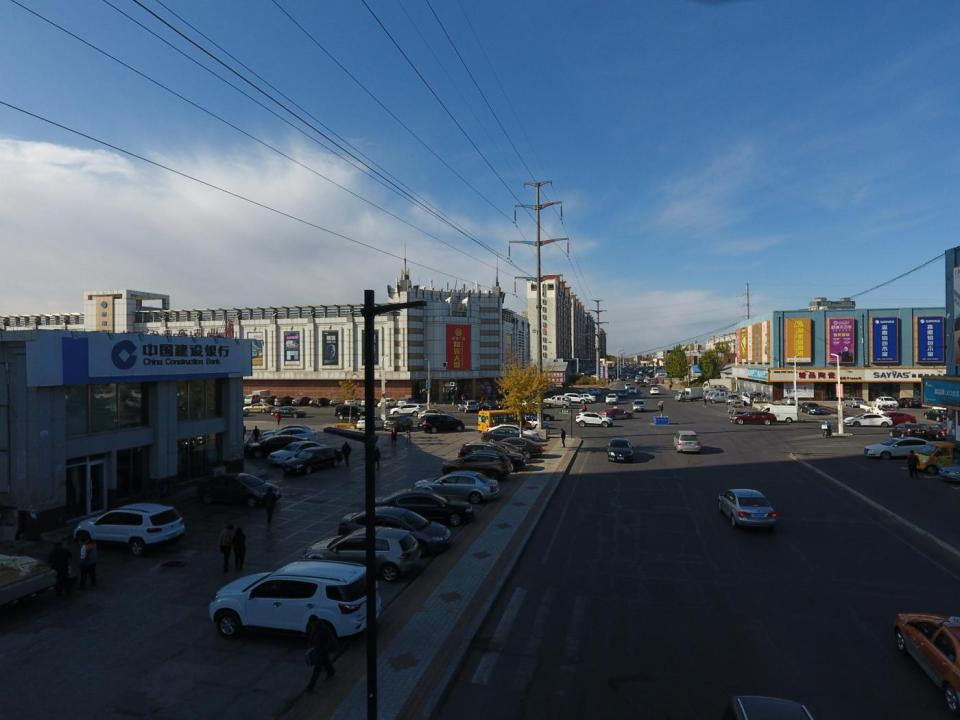bus: (478, 408, 531, 437)
car: (209, 558, 381, 643), (894, 612, 960, 716), (303, 528, 421, 581), (73, 503, 184, 555), (338, 507, 450, 553), (365, 488, 474, 534), (412, 470, 499, 505), (197, 473, 280, 506), (716, 488, 775, 528), (440, 451, 512, 482), (458, 442, 527, 472), (864, 437, 942, 461), (284, 446, 343, 477), (244, 436, 312, 460), (269, 442, 330, 463), (489, 438, 542, 460), (263, 429, 316, 449), (486, 424, 540, 442), (481, 428, 534, 446), (264, 424, 314, 441), (888, 422, 929, 439), (843, 414, 892, 428), (674, 430, 702, 453), (608, 438, 634, 462), (876, 412, 917, 427), (334, 404, 370, 421), (730, 411, 777, 424), (576, 412, 613, 428), (513, 415, 549, 430), (384, 414, 414, 430), (357, 416, 386, 432), (390, 403, 423, 417), (925, 424, 956, 438), (418, 410, 454, 422), (270, 406, 306, 418), (600, 407, 634, 419), (923, 409, 952, 423), (219, 404, 249, 417), (521, 410, 554, 421), (242, 402, 274, 413), (799, 401, 823, 415), (932, 401, 955, 414), (875, 396, 899, 408), (476, 401, 498, 414), (562, 393, 588, 404), (458, 400, 479, 413), (896, 398, 922, 408), (259, 395, 280, 407), (309, 397, 333, 407), (291, 395, 312, 406), (274, 396, 294, 407), (345, 397, 364, 408), (377, 398, 397, 408), (575, 393, 596, 402), (844, 398, 865, 407), (632, 399, 646, 412), (362, 397, 380, 407), (398, 398, 416, 407), (571, 391, 589, 400), (330, 396, 346, 406), (781, 396, 798, 405), (605, 393, 618, 404), (584, 387, 601, 395), (581, 389, 598, 396), (618, 390, 627, 398), (628, 387, 637, 394), (649, 388, 659, 394), (590, 374, 603, 378), (654, 374, 667, 378), (659, 373, 669, 378), (636, 378, 644, 384), (648, 380, 656, 386), (625, 382, 631, 388), (639, 382, 646, 387), (627, 374, 631, 380), (620, 376, 625, 380), (643, 378, 648, 382), (634, 378, 638, 382), (654, 378, 658, 382), (628, 373, 632, 376), (626, 372, 630, 375), (636, 375, 639, 379), (639, 371, 643, 374), (645, 376, 650, 378)
truck: (859, 402, 896, 419), (244, 389, 270, 406), (674, 387, 704, 401), (703, 379, 734, 392), (752, 397, 776, 413), (543, 395, 571, 407), (706, 389, 733, 400), (710, 391, 737, 402), (700, 384, 729, 394), (727, 401, 749, 414), (741, 391, 763, 404), (702, 389, 728, 397), (726, 394, 739, 404)
van: (912, 440, 960, 475), (418, 415, 465, 434), (756, 405, 798, 423)
